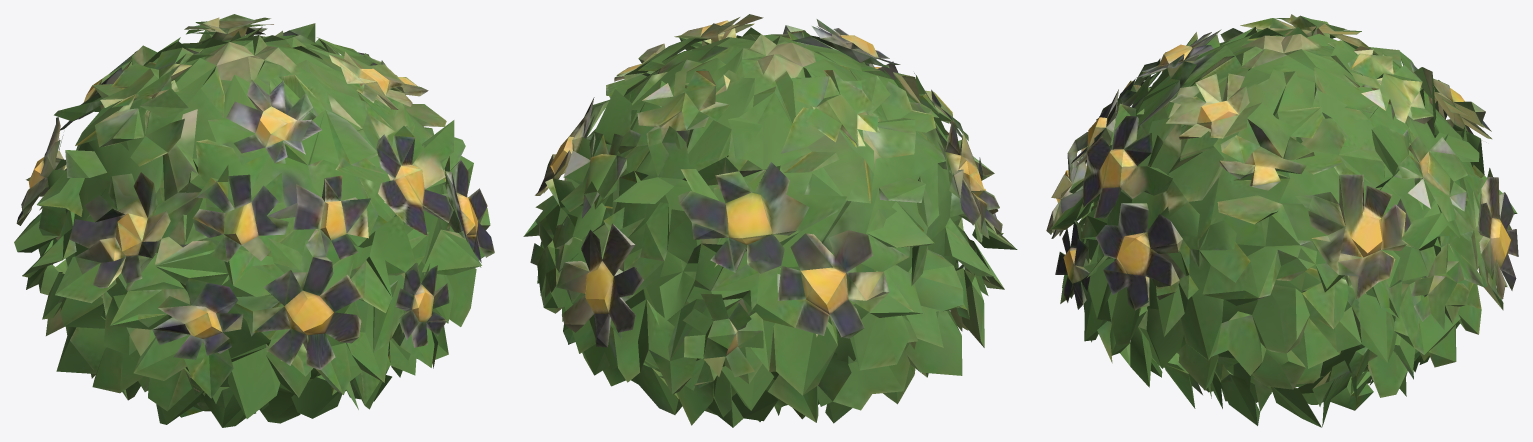
File: w_busch.glb
The picture shows the model from 3 angles, left to right: view 1: azimuth 30°, elevation 25°; view 2: azimuth 150°, elevation 25°; view 3: azimuth 270°, elevation 25°; orthographic projection. The views are drawn at different scales.
Bounding box in the file's own units: 1.9 × 1.48 × 1.86.
Materials: 1 (1 with a texture image).
